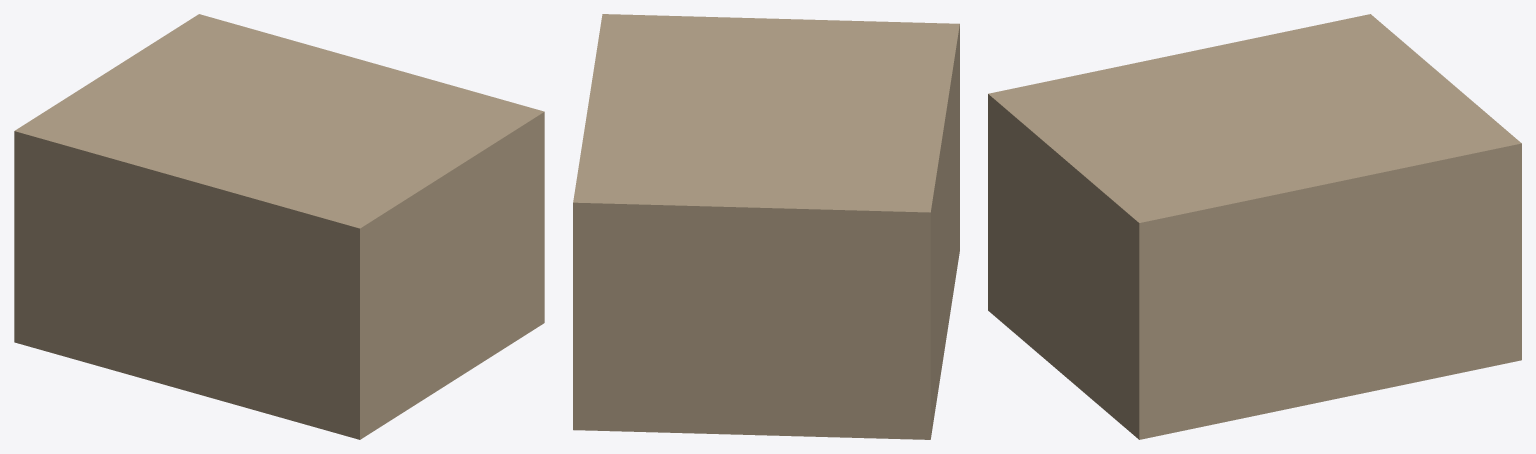
File: bld_107625454.dae
3 views of the same model, side by side, from view 1: azimuth 30°, elevation 25°; view 2: azimuth 150°, elevation 25°; view 3: azimuth 270°, elevation 25° (orthographic). The views are drawn at different scales.
Parts seen in each view (by area): view 1: bld_107625454; view 2: bld_107625454; view 3: bld_107625454.
Boxes of the visible parts, x1,y1,x2,y2 form: bld_107625454: (14,14,544,439); bld_107625454: (573,14,959,439); bld_107625454: (988,14,1521,439).
Size of the model in its own units: 16.55 by 17.85 by 8.
